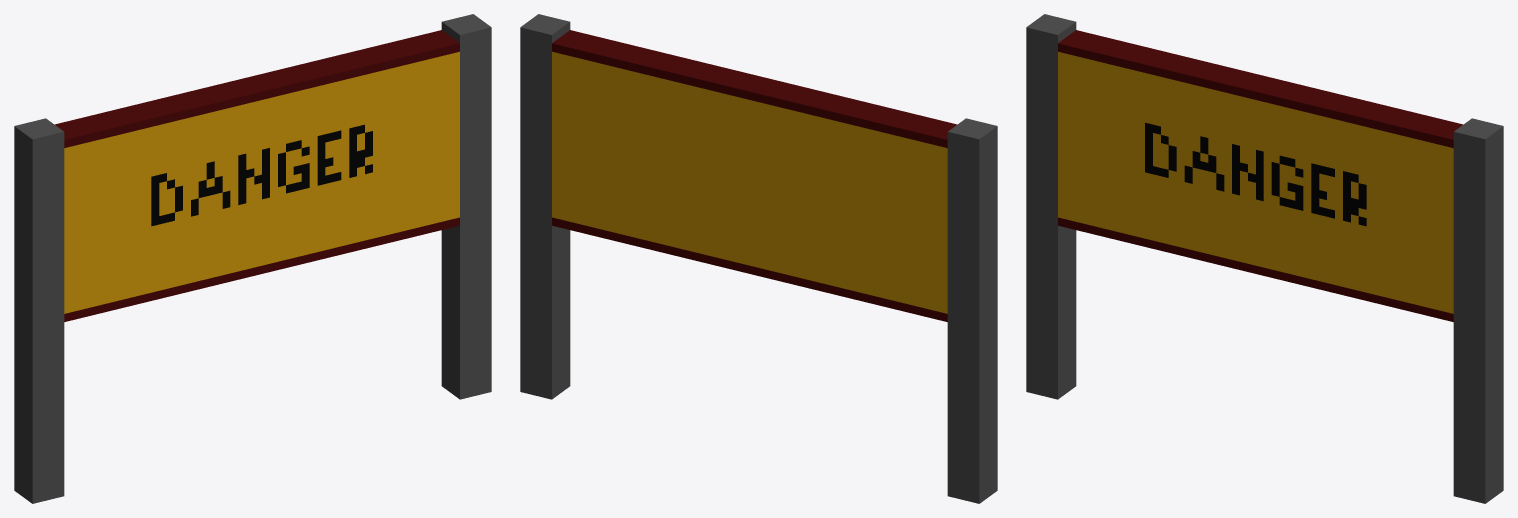
Rendered from sign-0.obj.
3 views of the same model, side by side, from view 1: azimuth 30°, elevation 25°; view 2: azimuth 150°, elevation 25°; view 3: azimuth 330°, elevation 25° (orthographic).
Bounding box in the file's own units: 5.8 × 4.4 × 0.4.
1 material, 1 textured.
